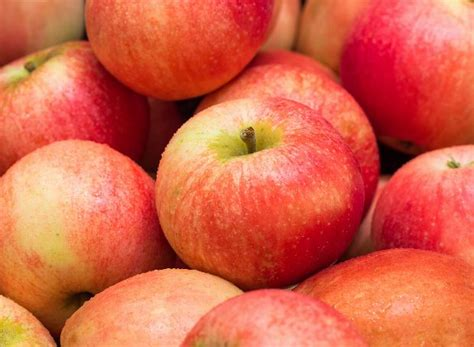apple: (149, 92, 365, 284), (1, 38, 152, 174)
